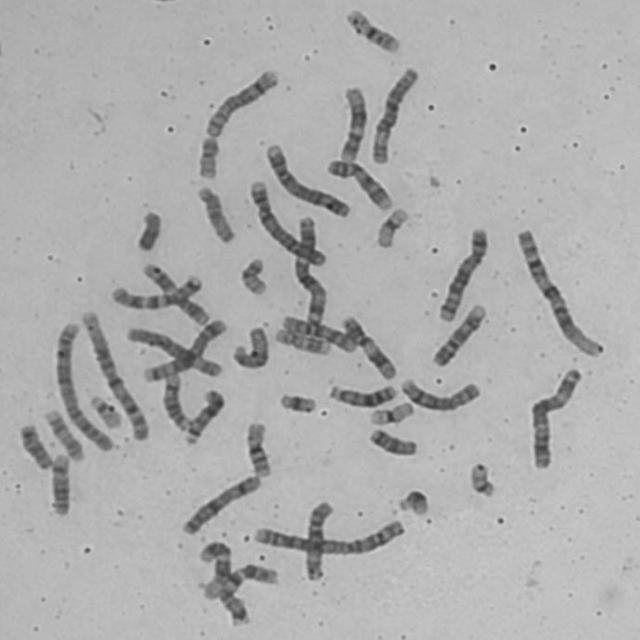A1: (509, 223, 606, 360), (75, 306, 151, 442)
A2: (48, 316, 118, 452), (247, 514, 407, 558)
A3: (524, 362, 584, 471), (288, 211, 330, 327)
B4: (243, 175, 329, 267), (260, 138, 353, 219)
B5: (137, 316, 227, 383), (432, 222, 490, 324)
C10: (276, 310, 360, 356), (298, 496, 335, 582)
C11: (137, 259, 210, 327), (334, 310, 398, 382)
C12: (333, 81, 368, 163), (194, 537, 234, 601)
C6: (121, 322, 225, 379), (365, 61, 421, 166)
C7: (193, 536, 250, 628), (105, 270, 204, 311)
C8: (198, 63, 282, 139), (394, 372, 483, 414)
C9: (320, 154, 395, 212), (427, 299, 488, 369)
D13: (178, 384, 226, 447), (322, 378, 399, 410)
D14: (156, 368, 193, 432), (44, 449, 72, 518)
D15: (191, 180, 238, 246), (227, 321, 271, 370)
E16: (339, 4, 403, 54), (239, 416, 274, 479)
E17: (38, 405, 86, 462), (269, 323, 333, 358)
E18: (13, 419, 54, 471), (364, 423, 419, 458)
F19: (370, 202, 411, 250), (364, 397, 416, 427)
F20: (235, 254, 269, 298), (191, 132, 222, 180)
G21: (273, 388, 319, 416), (390, 485, 430, 517)
G22: (83, 390, 124, 430), (464, 457, 497, 499)
X: (175, 470, 264, 537)
Y: (130, 206, 164, 253)
